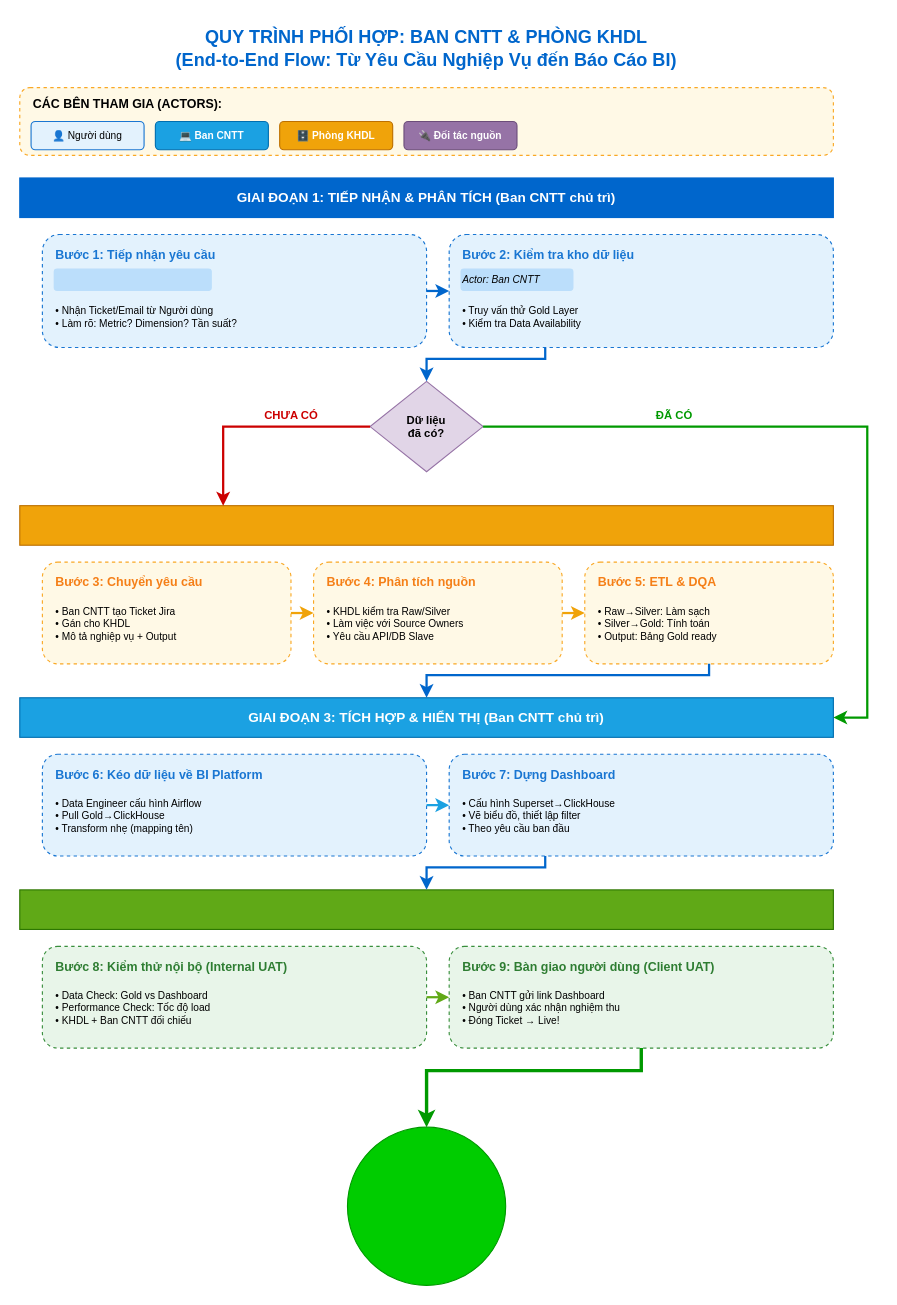
The diagram is 897 pixels wide and 1305 high, and some of its shapes have lost their labels. The shapes that lost their labels are listed below. From the top down, each one's centre as x and y in pixels, then its label:
the point at 132,279: Actor: Ban CNTT (BA/PO)
the point at 426,525: GIAI ĐOẠN 2: YÊU CẦU DỮ LIỆU & XỬ LÝ NỀN (Phòng KHDL chủ trì)
the point at 426,909: GIAI ĐOẠN 4: UAT & NGHIỆM THU
the point at 426,1205: ✓ HOÀN THÀNH Dashboard Live
